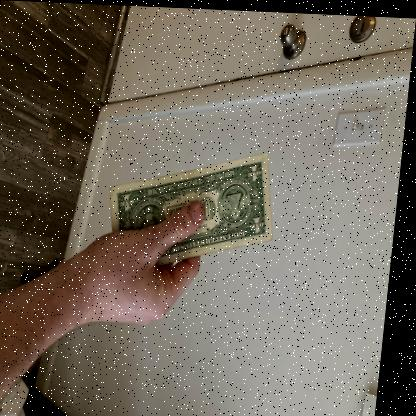one-back: (113, 150, 277, 271)
